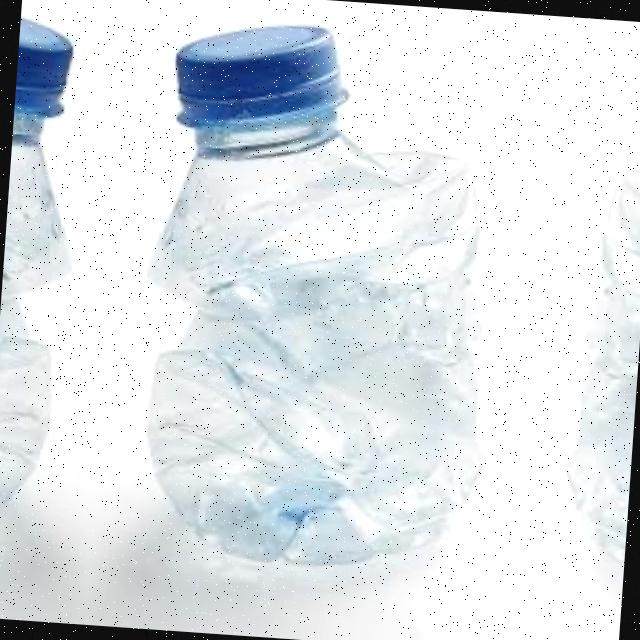Plastic: (122, 8, 528, 615), (539, 36, 640, 623), (0, 0, 90, 583)
